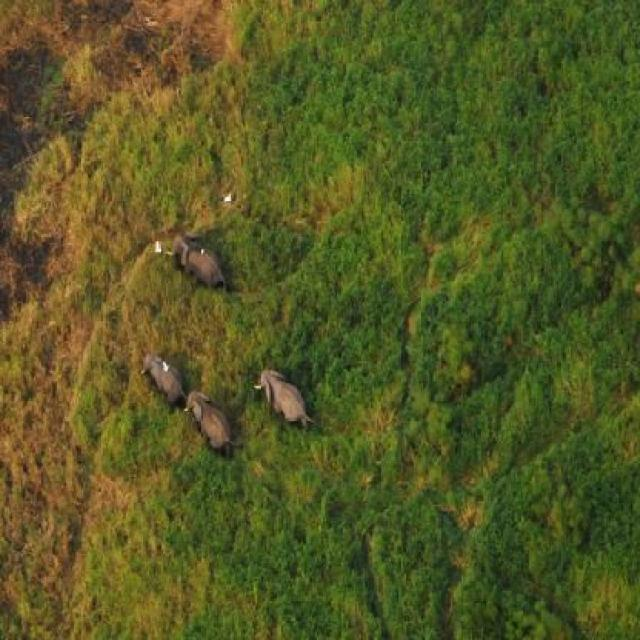elephant: (255, 361, 327, 433), (168, 222, 230, 304), (182, 393, 232, 464), (141, 340, 177, 411)
